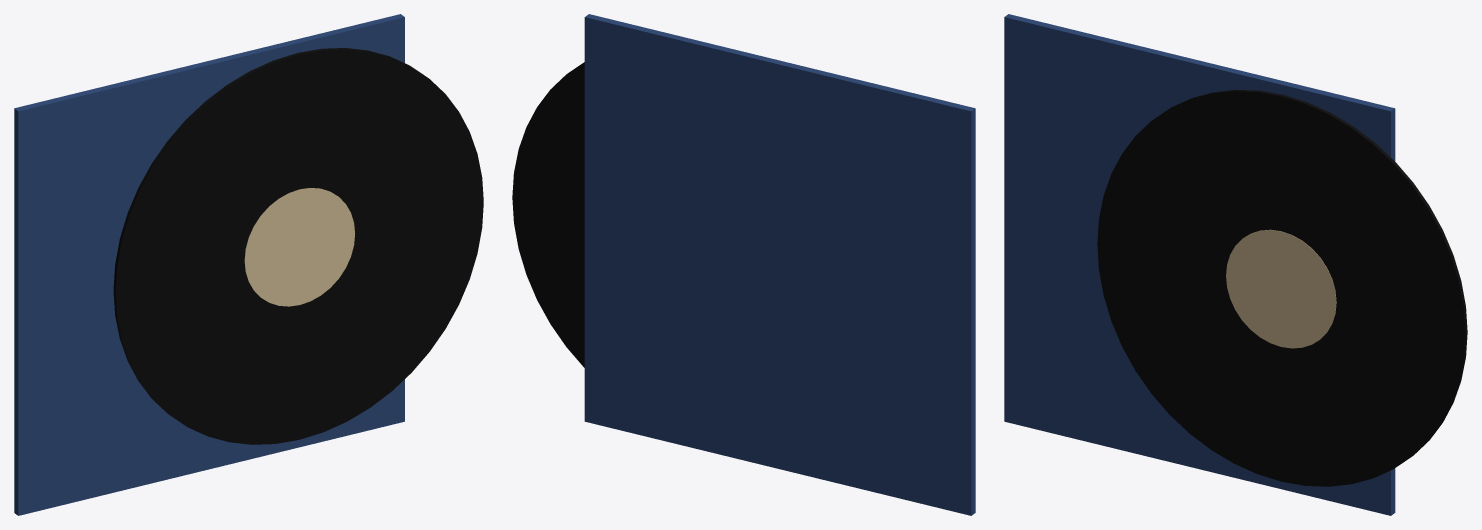
The model's file is record-1.glb.
3 views of the same model, side by side, from view 1: azimuth 30°, elevation 25°; view 2: azimuth 150°, elevation 25°; view 3: azimuth 330°, elevation 25° (orthographic).
Bounding box in the file's own units: 0.3775 × 0.315 × 0.0093.
